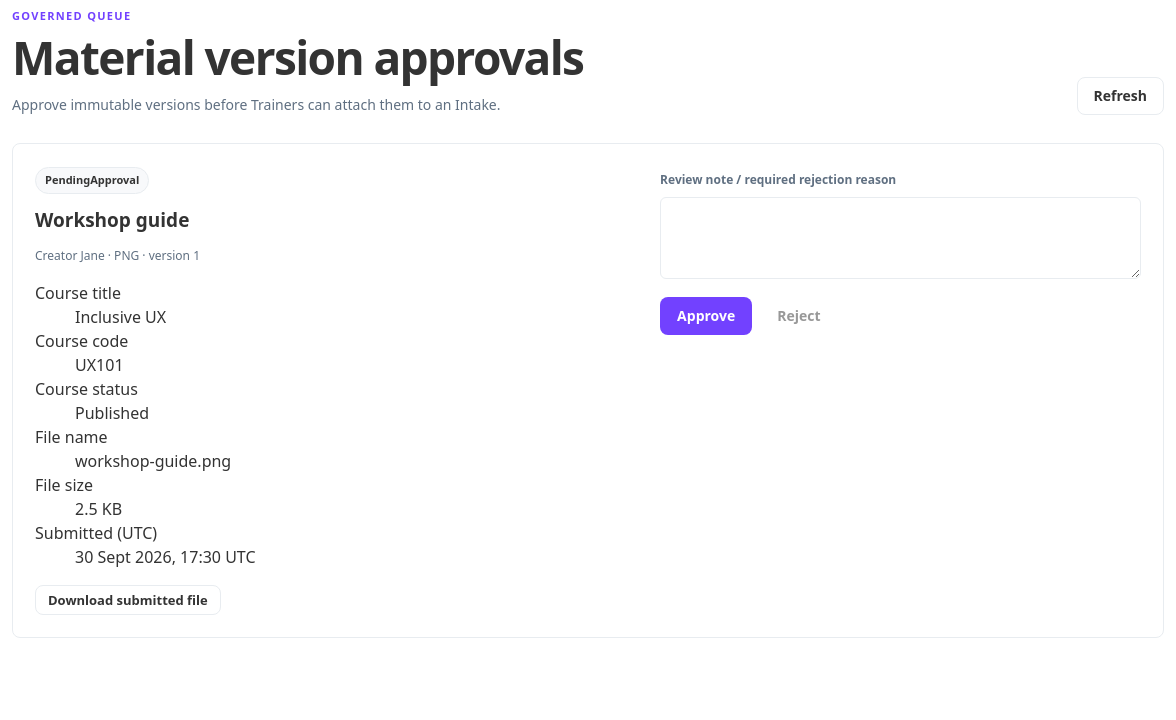
Test: keeps a file download failure local to the attachment rather than relabeling the queue as failed
Click the button "Download submitted file" at coordinates (128, 600), box [35, 585, 221, 615]
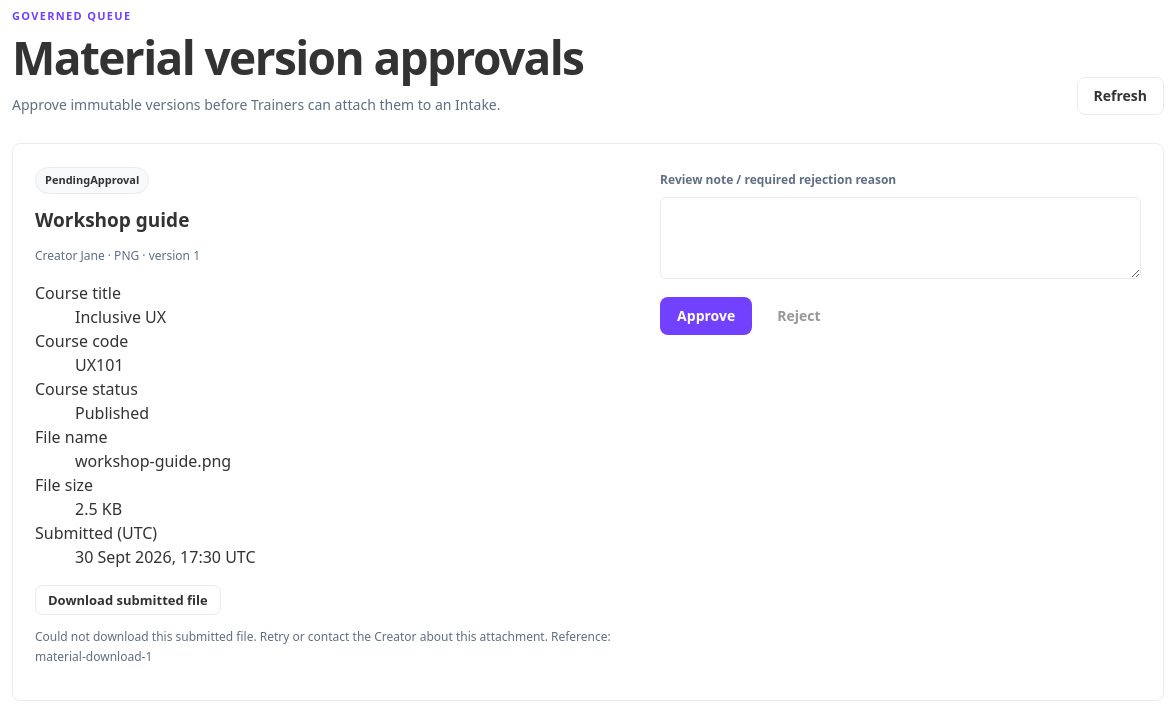
expect the heading "Workshop guide" is shown: met, box [35, 207, 189, 233]
expect the text "Reference: material-download-1" is shown: met, box [35, 628, 611, 665]
